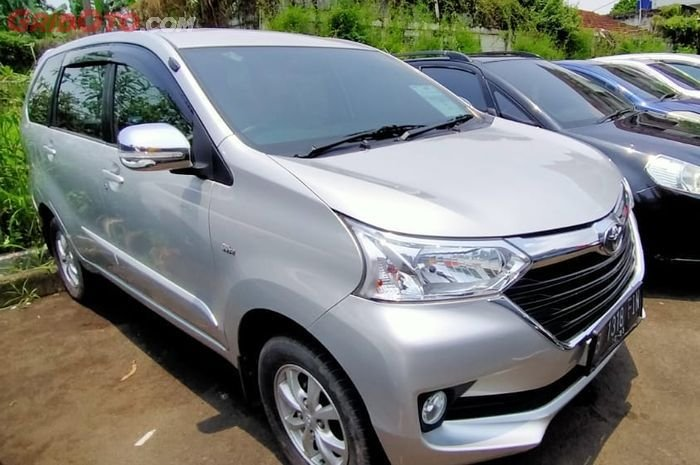mobil: (6, 36, 653, 462)
